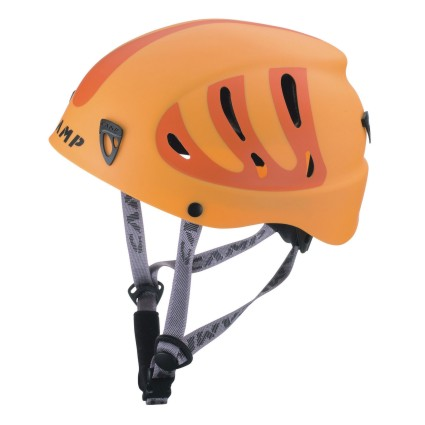helmet: (61, 25, 387, 237)
